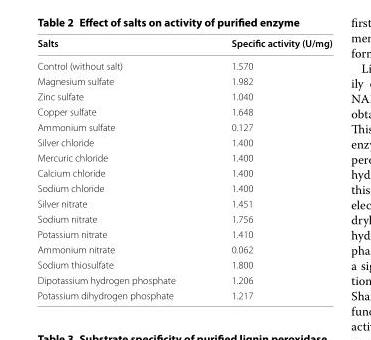table: (36, 37, 331, 300)
table column: (36, 37, 202, 300), (202, 37, 331, 300)
table column header: (36, 37, 331, 54)
table row: (36, 54, 331, 73), (36, 37, 331, 54), (36, 103, 331, 119), (36, 164, 331, 180), (36, 210, 331, 226), (36, 256, 331, 272), (36, 73, 331, 88), (36, 88, 331, 103), (36, 119, 331, 134), (36, 134, 331, 149), (36, 149, 331, 164), (36, 180, 331, 195), (36, 195, 331, 210), (36, 226, 331, 241), (36, 241, 331, 256), (36, 272, 331, 287), (36, 287, 331, 300)
